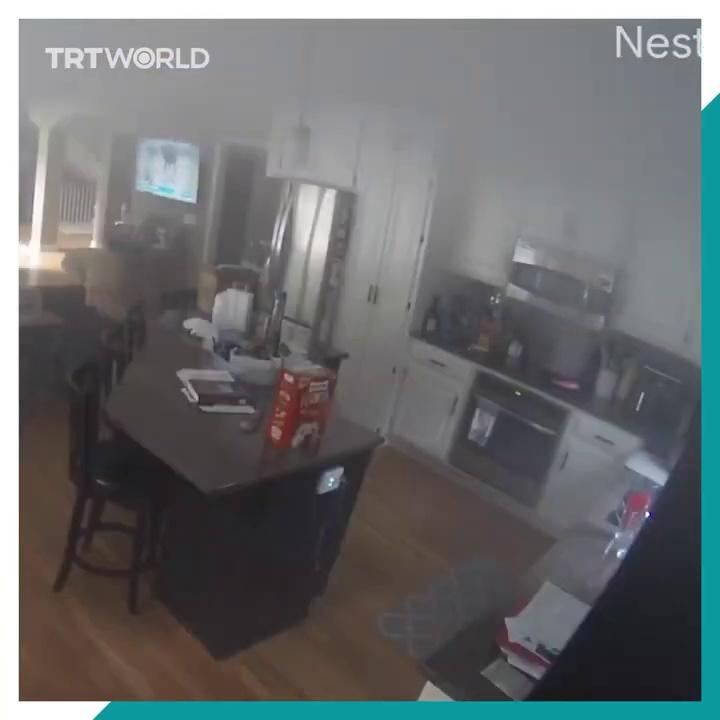Fire: (552, 373, 585, 398)
